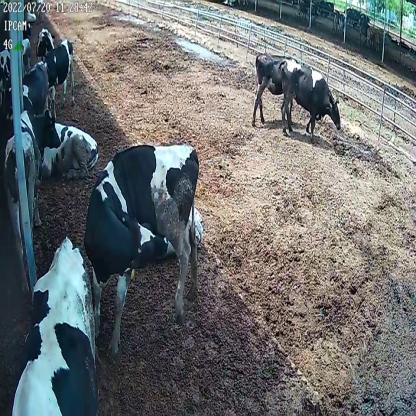cow: (84, 140, 202, 348), (8, 105, 61, 265), (278, 56, 341, 142), (252, 48, 288, 126), (44, 39, 75, 107), (37, 24, 55, 63)
